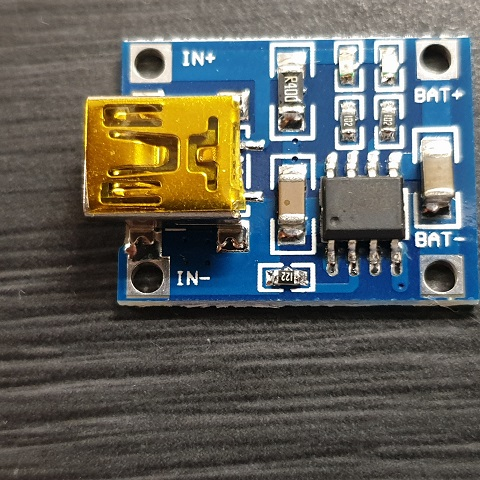batt+: (416, 38, 452, 80)
batt-: (420, 255, 468, 295)
charge: (336, 36, 366, 90)
done: (368, 36, 401, 91)
rprog: (256, 264, 314, 292)
usb: (80, 98, 242, 215)
